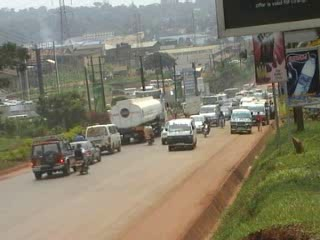Car: (29, 135, 80, 181), (68, 138, 103, 165), (159, 117, 174, 144), (188, 112, 205, 132), (217, 105, 231, 119)
Motorcycle: (72, 140, 92, 175), (143, 117, 156, 147), (216, 109, 227, 129), (202, 117, 211, 140)
